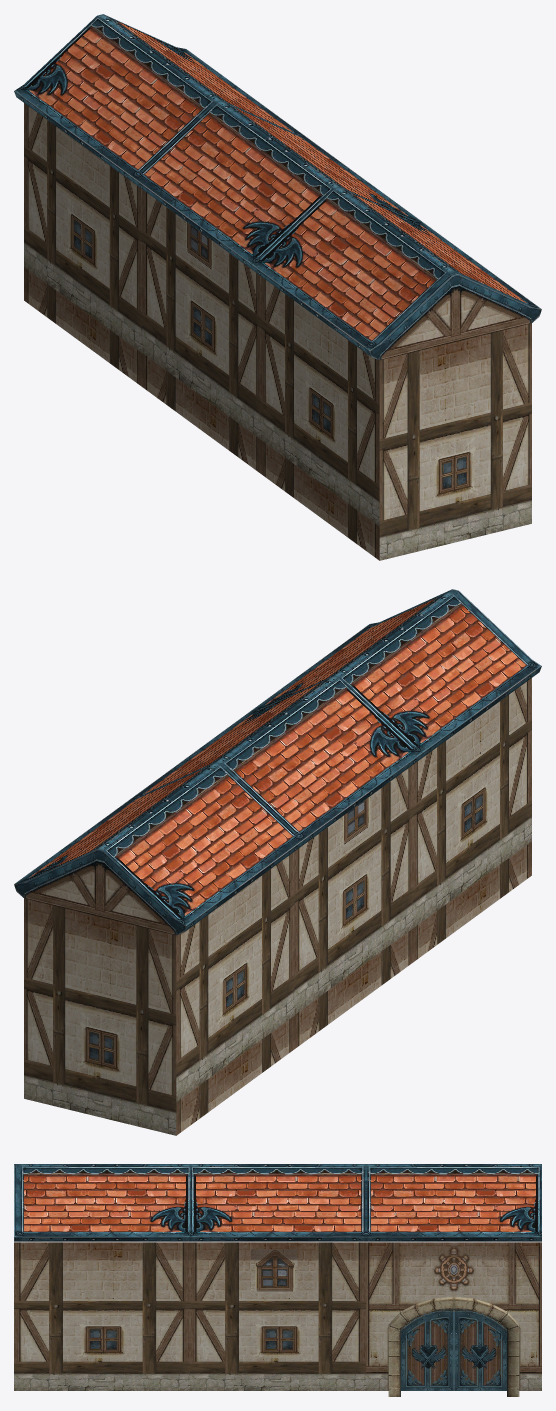
3 renders of one model, top to bottom at view 1: azimuth 30°, elevation 25°; view 2: azimuth 150°, elevation 25°; view 3: azimuth 270°, elevation 25°, orthographic. The views are drawn at different scales.
Parts seen in each view (by area): view 1: geom_node_2, geom_node_1, geom_node_0; view 2: geom_node_0, geom_node_1, geom_node_2; view 3: geom_node_0, geom_node_1, geom_node_2.
Boxes of the visible parts, x1=… form: geom_node_2: x1=251, y1=187, x2=541, y2=560; geom_node_1: x1=132, y1=101, x2=422, y2=473; geom_node_0: x1=14, y1=14, x2=304, y2=386; geom_node_0: x1=14, y1=762, x2=304, y2=1135; geom_node_1: x1=133, y1=676, x2=423, y2=1048; geom_node_2: x1=251, y1=589, x2=541, y2=961; geom_node_0: x1=366, y1=1164, x2=541, y2=1396; geom_node_1: x1=190, y1=1164, x2=365, y2=1390; geom_node_2: x1=14, y1=1164, x2=189, y2=1390.
Size of the model in its own units: 4.29 by 6.47 by 15.33.
10 materials, 10 textured.
